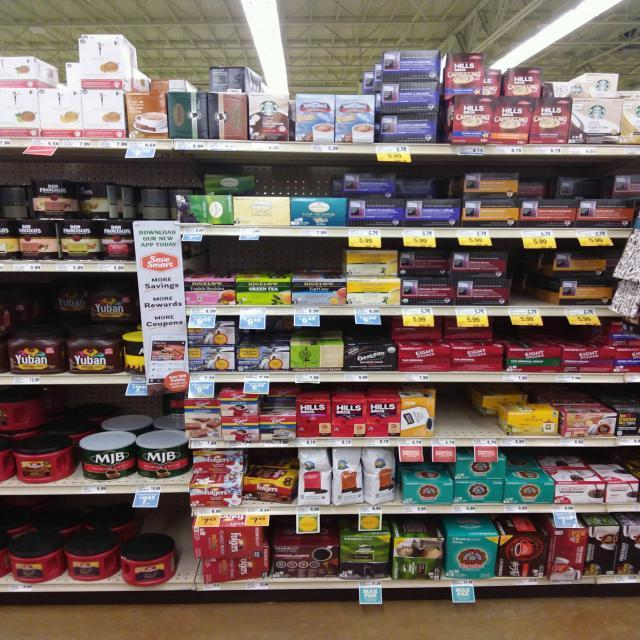empty: (437, 384, 466, 446), (512, 250, 532, 316)
